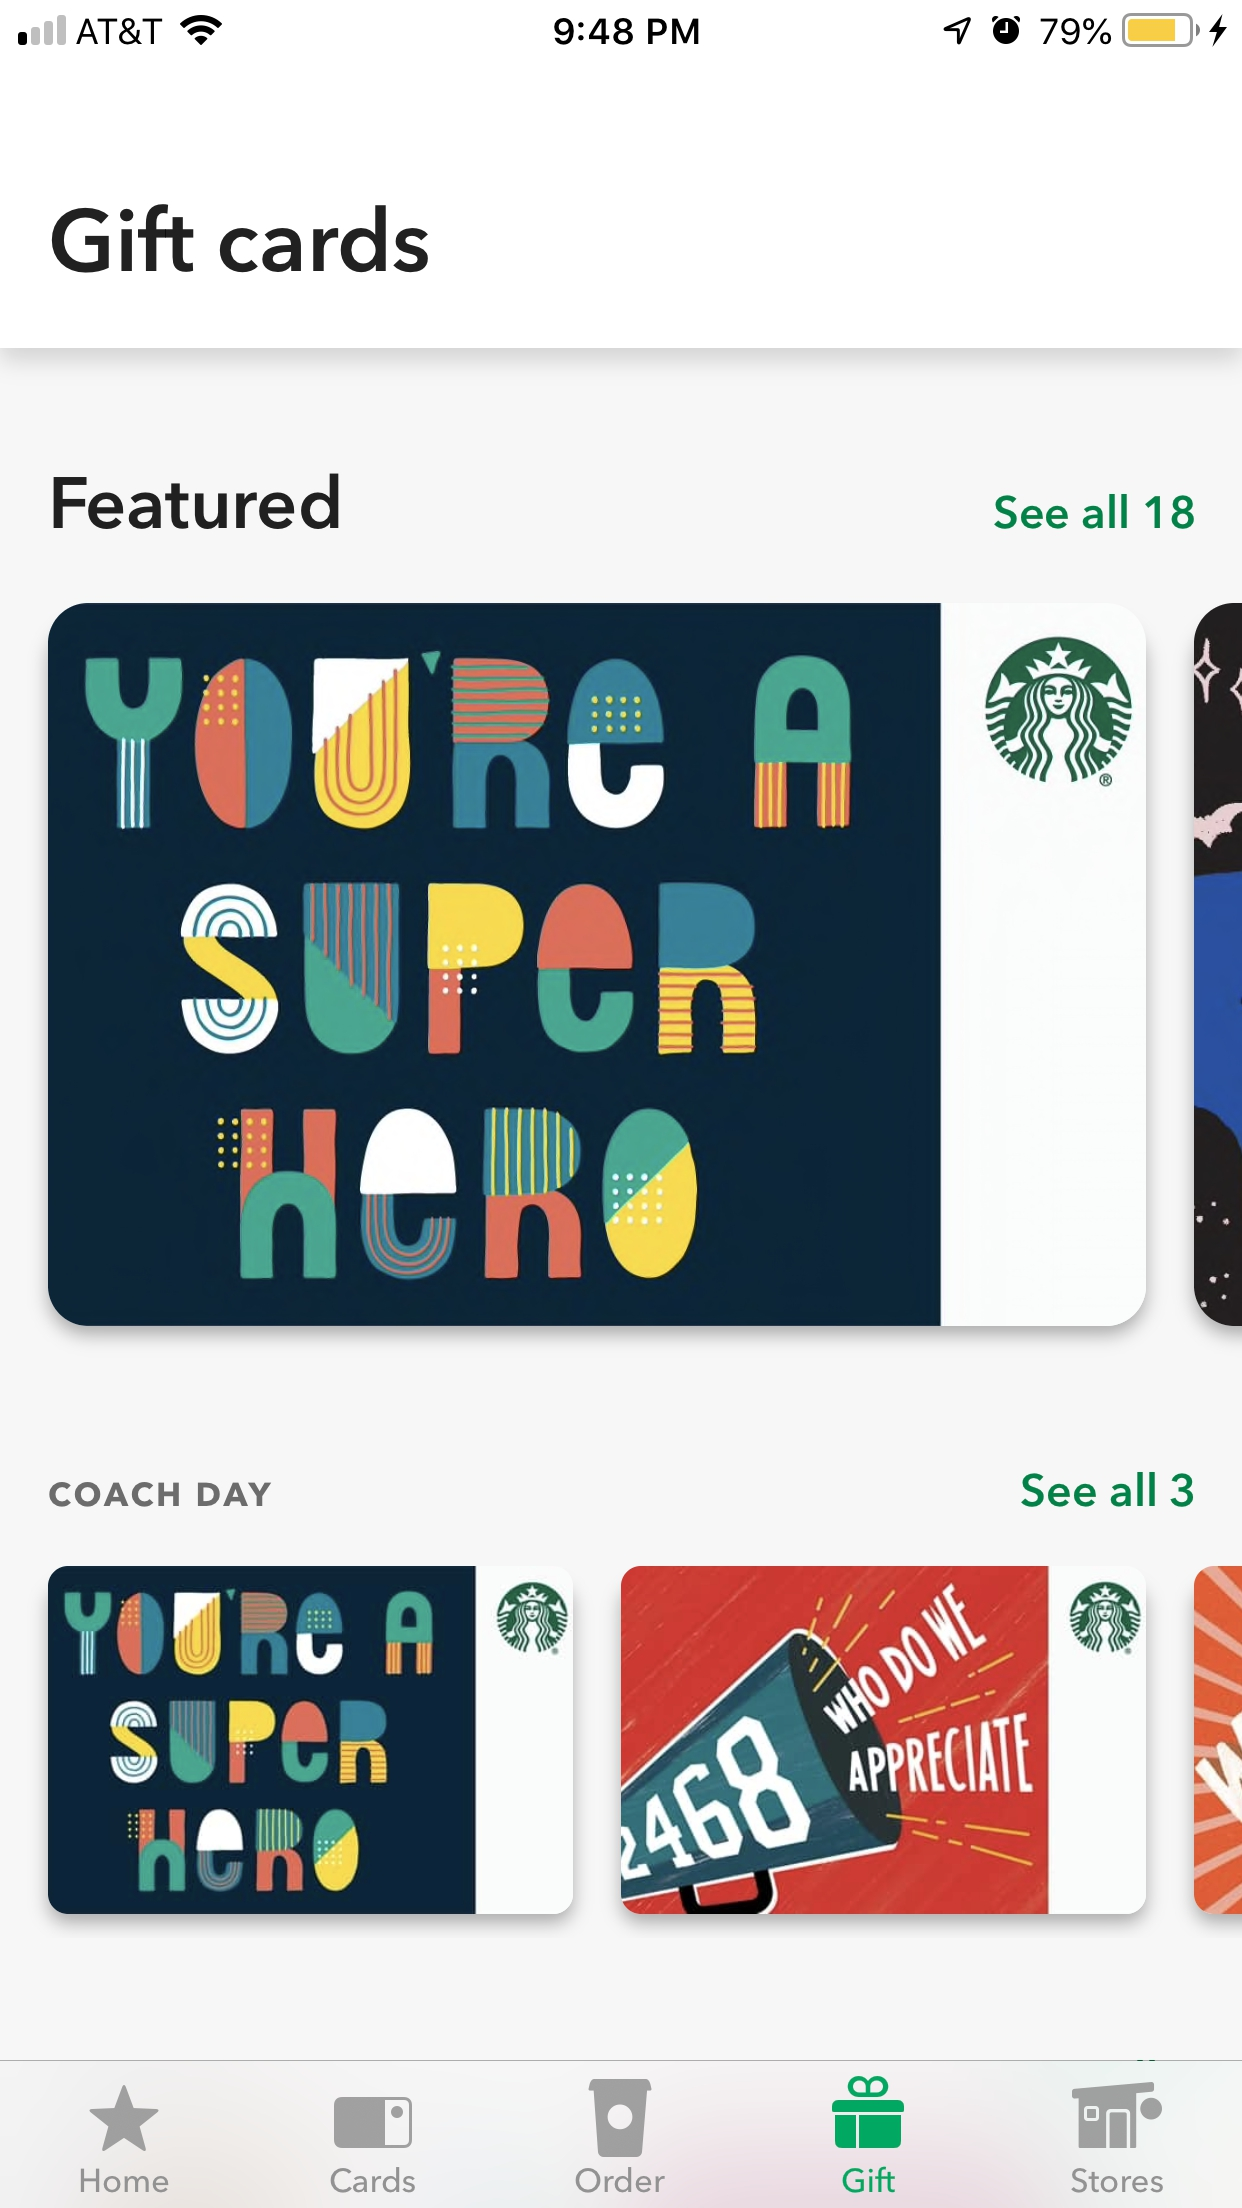Icon: (833, 2075, 905, 2149), (89, 2085, 161, 2152), (334, 2096, 414, 2149)
Image: (49, 602, 1146, 1327), (620, 1565, 1146, 1915), (49, 1567, 575, 1915), (1193, 604, 1240, 1328), (1193, 1563, 1242, 1915), (1071, 2081, 1163, 2149), (588, 2078, 654, 2156)
Text: (52, 205, 429, 274), (53, 473, 341, 529), (993, 494, 1195, 529), (1021, 1471, 1193, 1507), (49, 1482, 271, 1507), (1071, 2166, 1165, 2193), (575, 2166, 666, 2193), (331, 2167, 417, 2194), (80, 2167, 168, 2193), (842, 2166, 896, 2194)
UpperTaskBar: (2, 2, 1242, 49)
